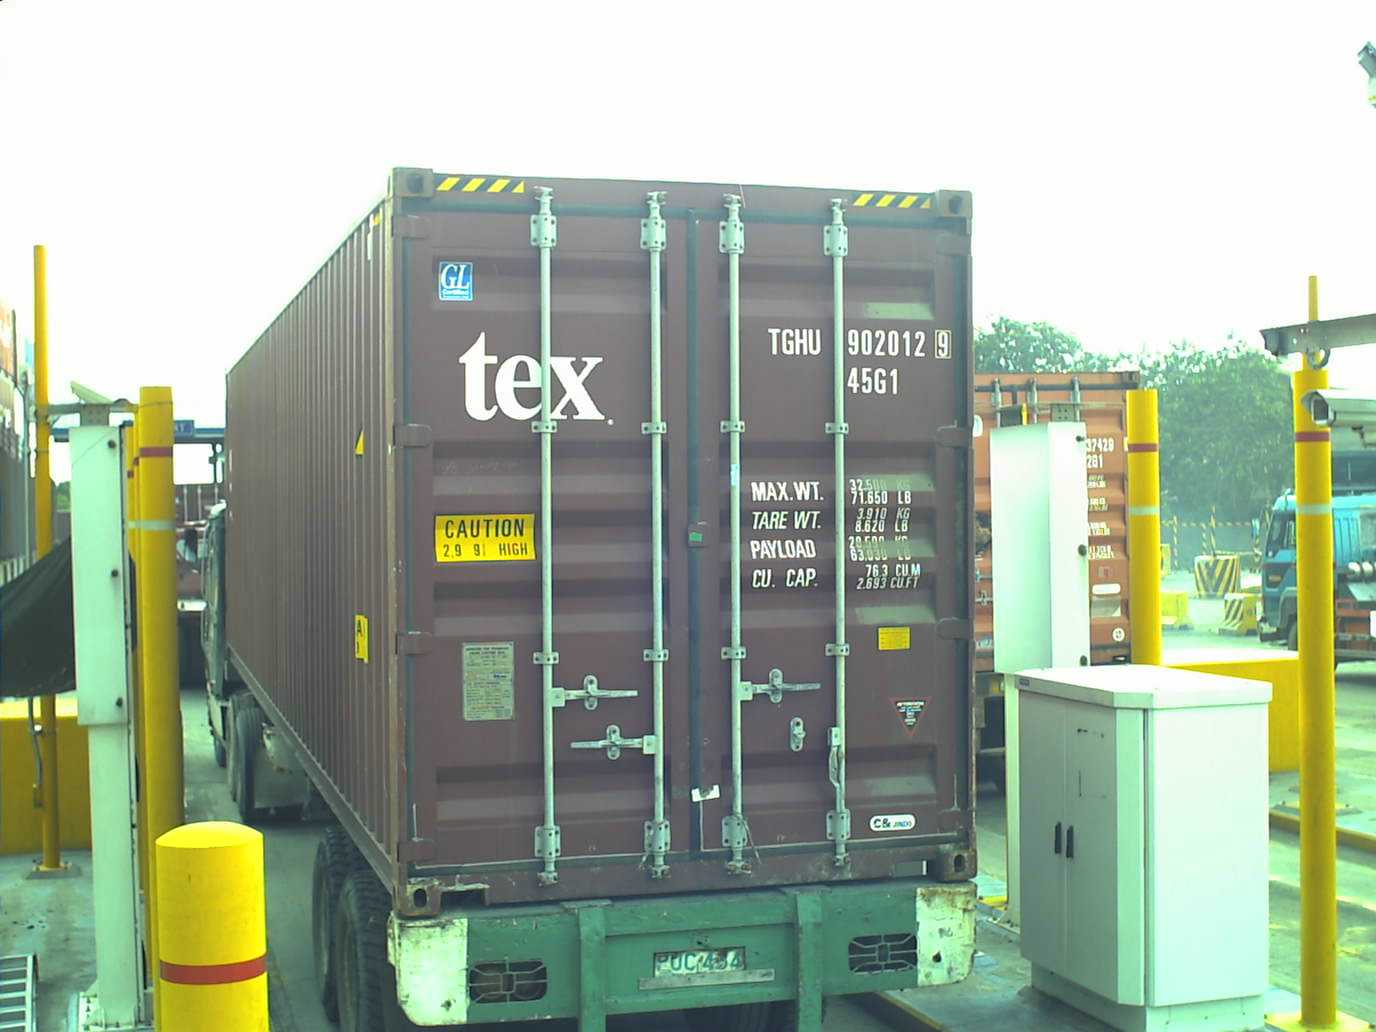container_door: (379, 157, 981, 889)
